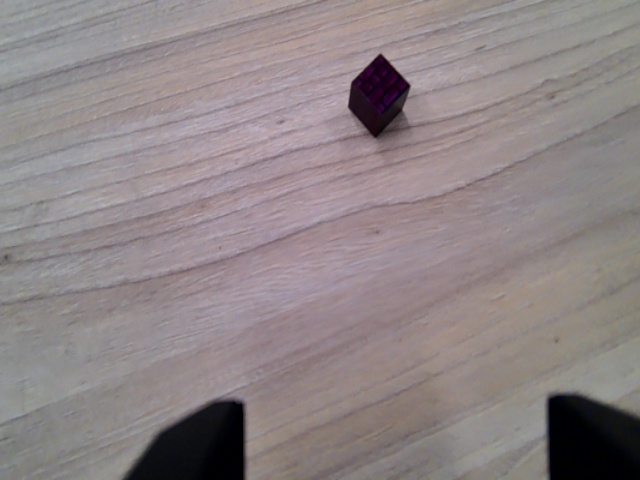brick: (348, 49, 413, 141)
